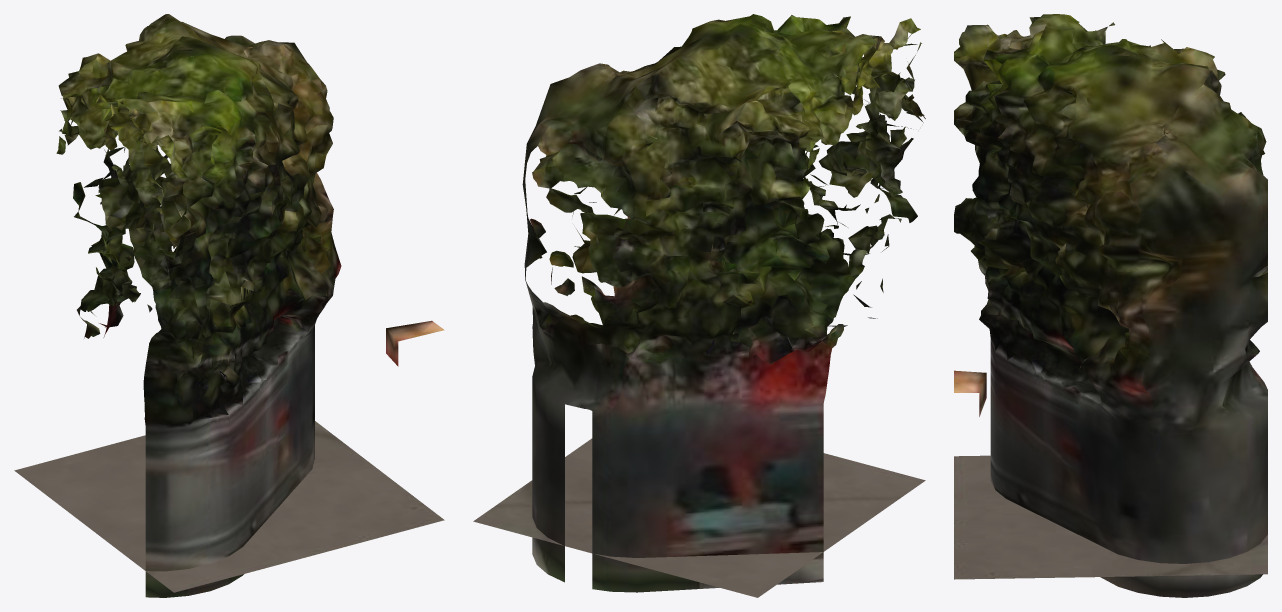
3 renders of one model, left to right at view 1: azimuth 30°, elevation 25°; view 2: azimuth 150°, elevation 25°; view 3: azimuth 270°, elevation 25°, orthographic. The views are drawn at different scales.
Size of the model in its own units: 1.18 by 2.03 by 1.21.
Materials: 1 (1 with a texture image).
